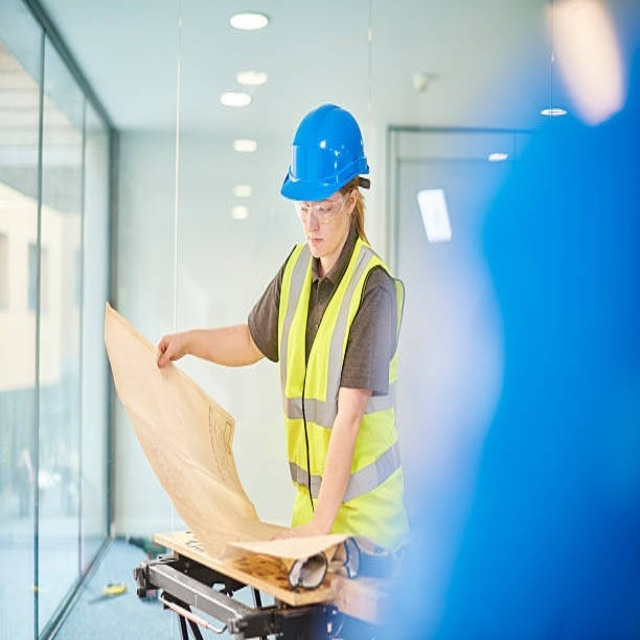Gafas: (295, 191, 350, 224)
Sin_guantes: (155, 329, 192, 370)
Sin_mascara: (305, 232, 326, 260)
